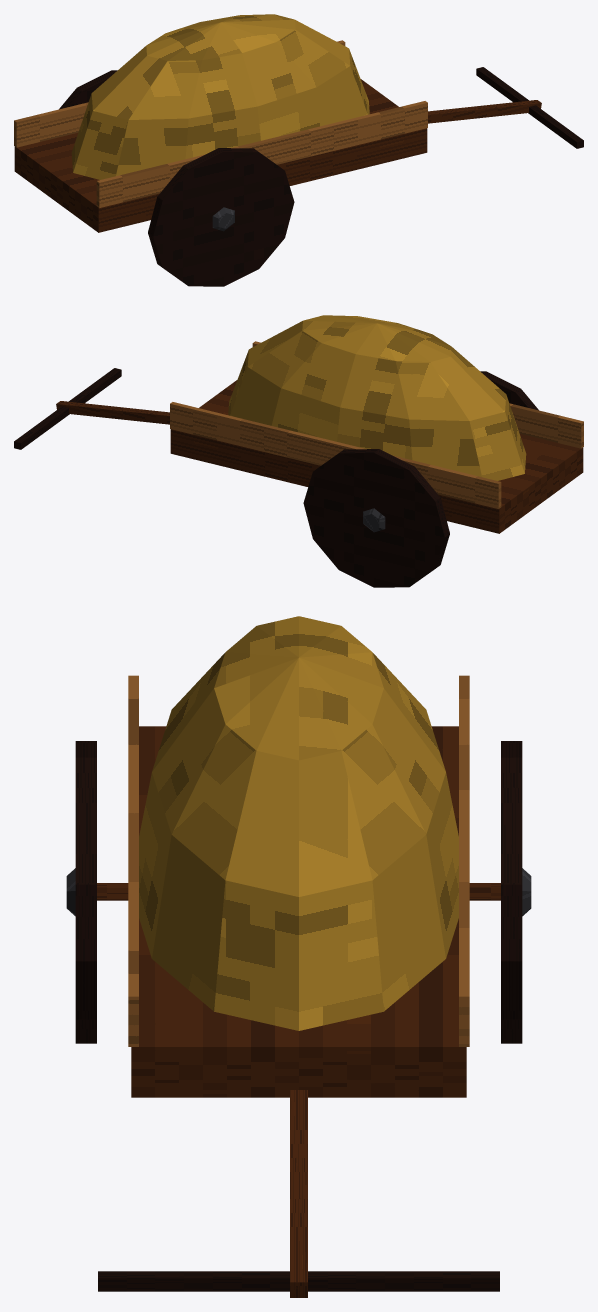
The model's file is carreta_bueyes.glb.
The picture shows the model from 3 angles, top to bottom: view 1: azimuth 30°, elevation 25°; view 2: azimuth 150°, elevation 25°; view 3: azimuth 270°, elevation 25°; orthographic projection. The views are drawn at different scales.
Parts seen in each view (by area): view 1: carga, rueda_der, caja, barandas, lanza, yugo, rueda_izq, bujes; view 2: carga, rueda_izq, caja, barandas, lanza, yugo, rueda_der, bujes; view 3: carga, caja, barandas, yugo, rueda_izq, rueda_der, lanza, ejes.
Part boxes in pixels (left/top/right/bottom): carga: left=71, top=14, right=369, bottom=179; rueda_der: left=148, top=148, right=294, bottom=286; caja: left=14, top=79, right=427, bottom=232; barandas: left=14, top=40, right=427, bottom=207; lanza: left=428, top=100, right=541, bottom=123; yugo: left=476, top=67, right=583, bottom=148; rueda_izq: left=59, top=70, right=117, bottom=109; bujes: left=212, top=207, right=234, bottom=231; carga: left=228, top=315, right=526, bottom=480; rueda_izq: left=303, top=449, right=449, bottom=587; caja: left=170, top=380, right=583, bottom=533; barandas: left=170, top=341, right=583, bottom=508; lanza: left=56, top=401, right=169, bottom=424; yugo: left=14, top=368, right=121, bottom=449; rueda_der: left=480, top=371, right=538, bottom=410; bujes: left=363, top=508, right=385, bottom=532; carga: left=139, top=616, right=458, bottom=1030; caja: left=131, top=726, right=466, bottom=1097; barandas: left=128, top=675, right=469, bottom=1046; yugo: left=98, top=1271, right=499, bottom=1291; rueda_izq: left=501, top=741, right=522, bottom=1043; rueda_der: left=75, top=741, right=96, bottom=1043; lanza: left=290, top=1090, right=307, bottom=1297; ejes: left=97, top=883, right=500, bottom=900.
Size of the model in its own units: 6 by 2.5 by 2.5.
Materials: 1 (1 with a texture image).
